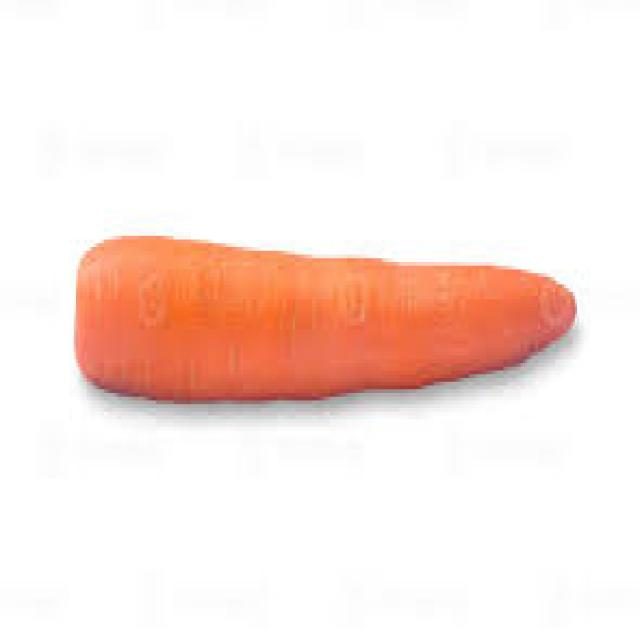carrot: (72, 228, 577, 400)
